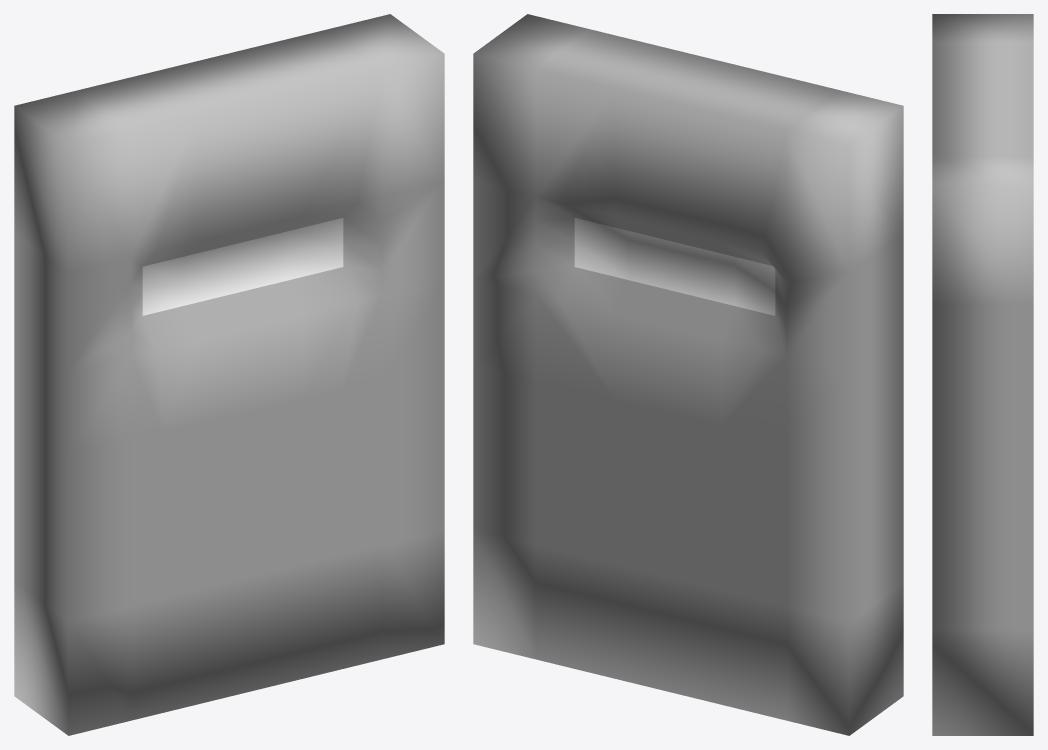
File: MentalHospitalDoor.glb
3 renders of one model, left to right at view 1: azimuth 30°, elevation 25°; view 2: azimuth 150°, elevation 25°; view 3: azimuth 270°, elevation 25°, orthographic. The views are drawn at different scales.
Parts seen in each view (by area): view 1: Cube; view 2: Cube; view 3: Cube.
Boxes of the visible parts, x1,y1,x2,y2 form: Cube: (14, 14, 444, 735); Cube: (473, 14, 903, 735); Cube: (932, 14, 1033, 735).
Bounding box in the file's own units: 2 × 3 × 0.5.
1 material, 1 textured.
